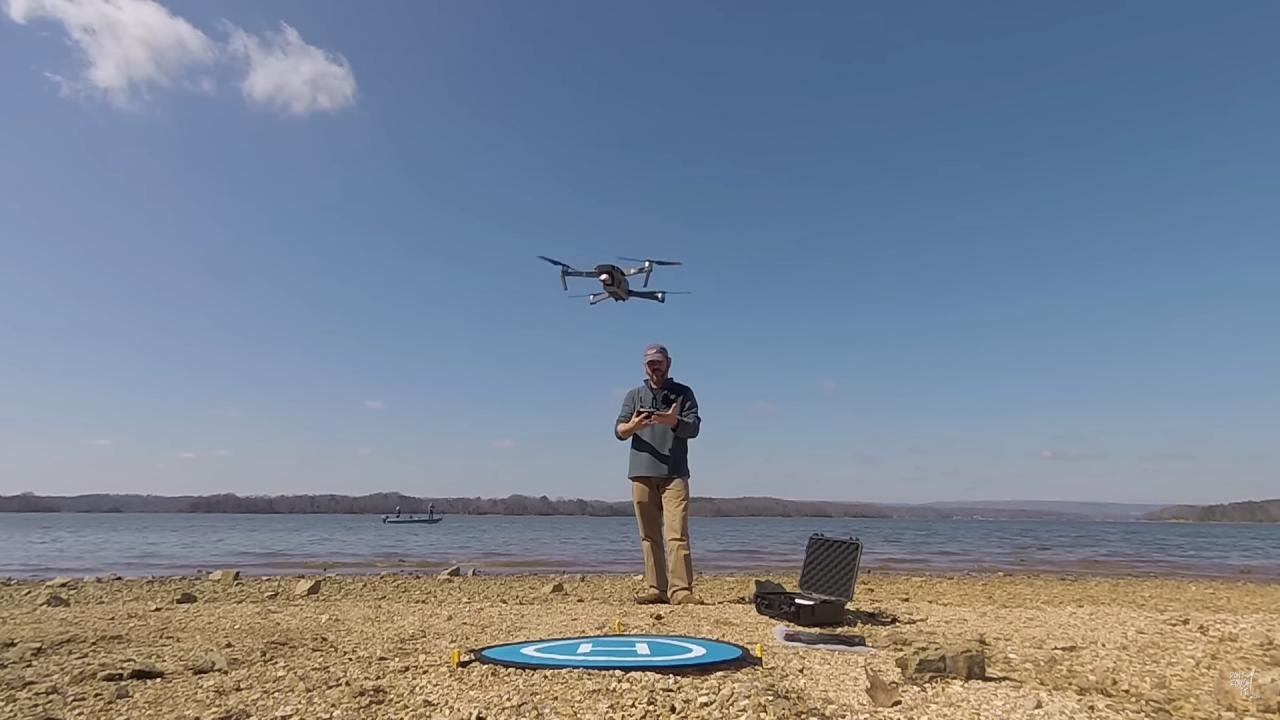Drone: (526, 236, 703, 324)
